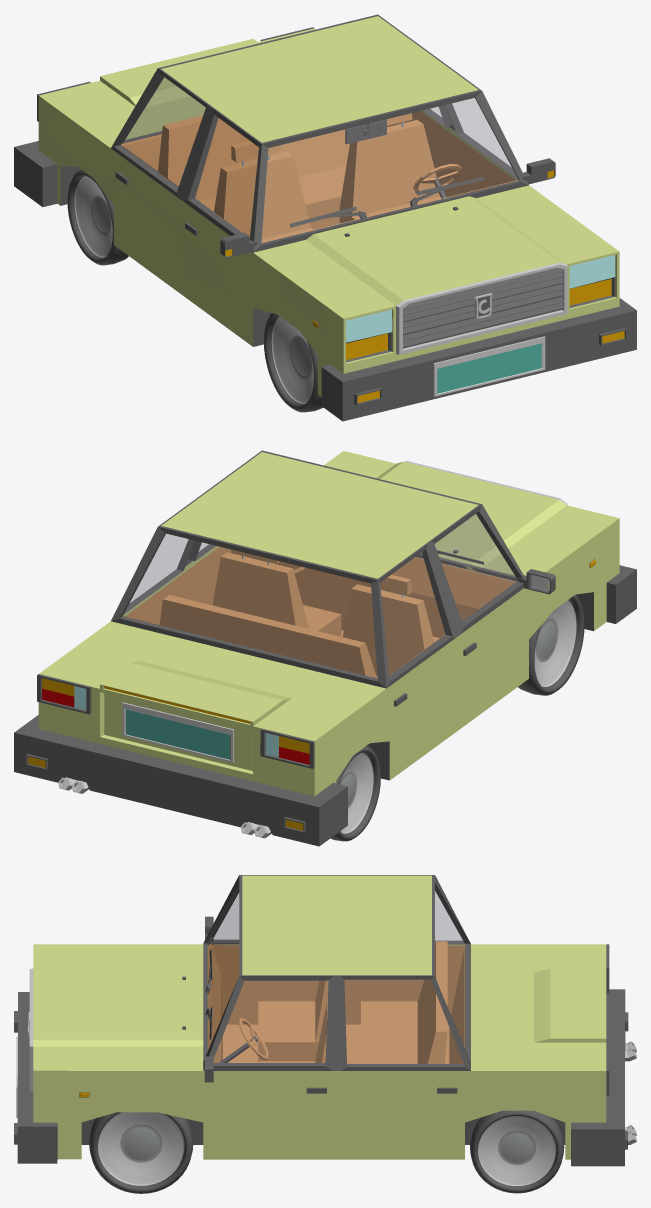
The model's file is car_1.fbx.
The picture shows the model from 3 angles, top to bottom: view 1: azimuth 30°, elevation 25°; view 2: azimuth 150°, elevation 25°; view 3: azimuth 270°, elevation 25°; orthographic projection. The views are drawn at different scales.
Parts seen in each view (by area): view 1: CarBody, WheelFrontRight, WheelBackRight; view 2: CarBody, WheelFrontRight, WheelBackRight; view 3: CarBody, WheelFrontLeft, WheelBackLeft.
Boxes of the visible parts, box(x1,y1,x2,y2) form: CarBody: box(14, 14, 636, 421); WheelFrontRight: box(263, 313, 323, 412); WheelBackRight: box(67, 169, 128, 265); CarBody: box(14, 450, 636, 846); WheelFrontRight: box(518, 594, 584, 695); WheelBackRight: box(330, 746, 380, 841); CarBody: box(14, 875, 636, 1166); WheelFrontLeft: box(89, 1112, 193, 1193); WheelBackLeft: box(470, 1110, 564, 1193).
Bounding box in the file's own units: 36.73 × 23.53 × 63.77.
